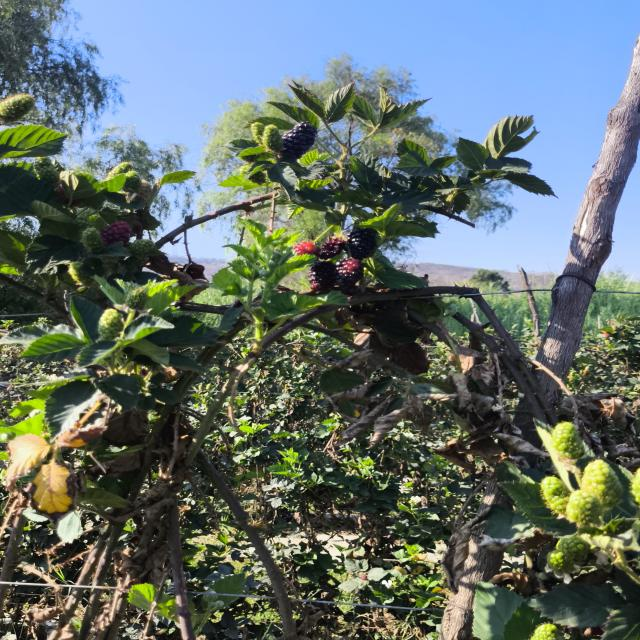maduro: (282, 122, 317, 158), (348, 229, 375, 260)
marron: (309, 260, 338, 293), (336, 258, 363, 292)
naranja: (100, 221, 131, 245), (293, 241, 319, 256)
verde: (581, 459, 622, 510), (547, 536, 590, 573), (566, 490, 603, 526), (552, 422, 585, 460), (540, 476, 571, 514), (0, 93, 34, 120), (98, 308, 124, 340), (34, 157, 58, 184), (76, 211, 106, 231), (261, 125, 283, 152), (81, 228, 104, 252), (68, 262, 91, 285), (125, 288, 148, 309), (129, 239, 154, 258), (123, 171, 142, 193), (107, 162, 133, 178), (251, 122, 266, 145)
